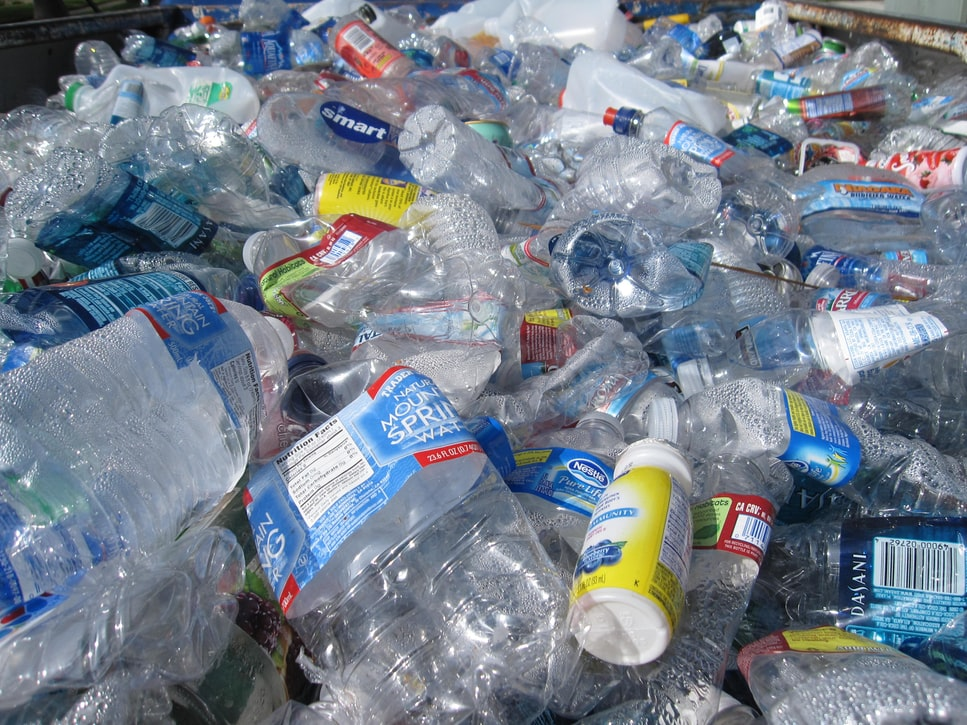garbage: (8, 77, 964, 725), (194, 5, 936, 725)
